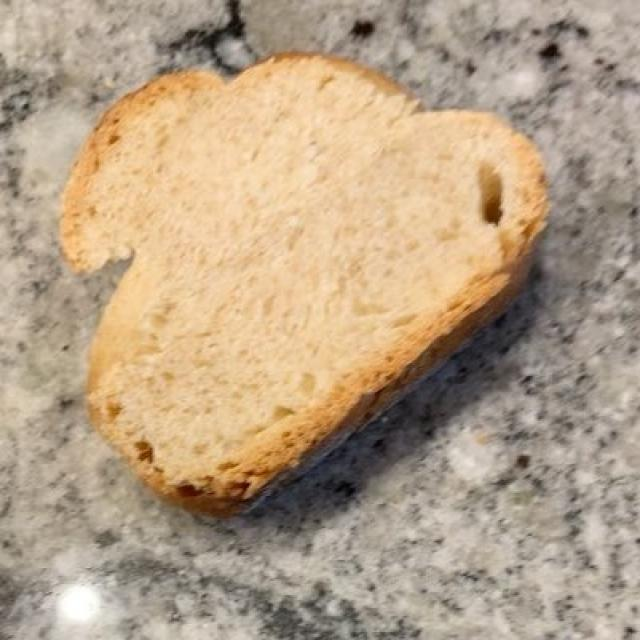Bread: (51, 48, 557, 528)
